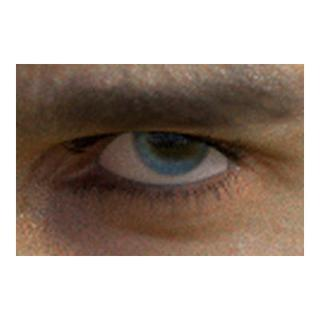pupil: (153, 116, 193, 156)
